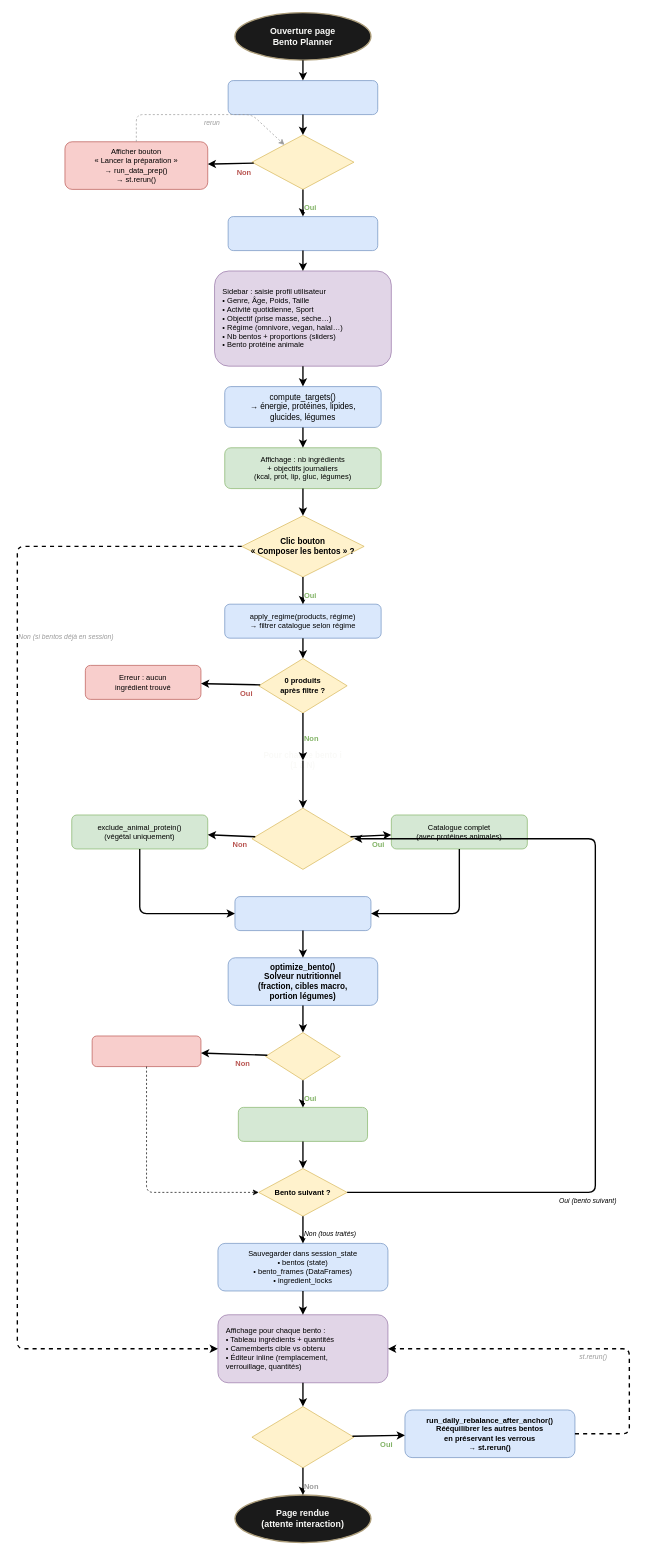
This 647x1554 diagram has some shape labels left out. Each missing label, with the centre of its shape:
"apply_theme() ensure_csv_from_s3()" goes at point (302, 97).
"Bento i = bento protéine animale ?" goes at point (302, 838).
"CSV local existe ?" goes at point (302, 161).
"Exclure ingrédients déjà utilisés (used_codes)" goes at point (302, 913).
"load_products(CSV_PATH) → DataFrame Polars" goes at point (302, 233).
"Mémoriser codes ingrédients sélectionnés → used_codes" goes at point (303, 1124).
"Solveur OK ?" goes at point (302, 1056).
"Stocker erreur pour affichage" goes at point (146, 1051).
"Utilisateur modifie un ingrédient ?" goes at point (302, 1437).
